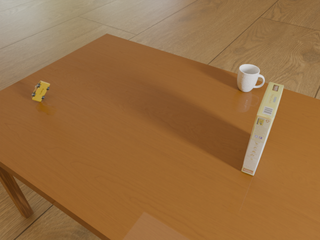box: (241, 82, 284, 175)
cup: (237, 64, 264, 92)
toy_car: (32, 81, 50, 102)
